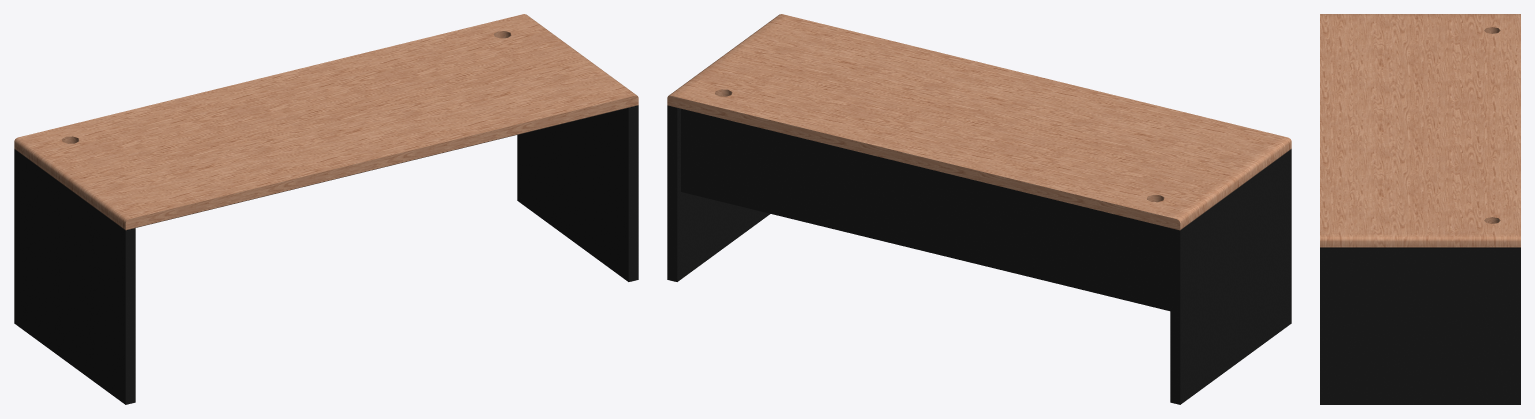
The model's file is table.glb.
3 renders of one model, left to right at view 1: azimuth 30°, elevation 25°; view 2: azimuth 150°, elevation 25°; view 3: azimuth 270°, elevation 25°, orthographic. The views are drawn at different scales.
Visible parts, largest first — view 1: Desk; view 2: Desk; view 3: Desk.
Boxes of the visible parts, x1,y1,x2,y2 form: Desk: (14, 14, 638, 404); Desk: (667, 14, 1291, 404); Desk: (1320, 14, 1520, 404).
Bounding box in the file's own units: 400 × 138 × 151.
1 material, 1 textured.
